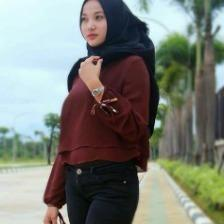Non Syar-i: (63, 0, 157, 126)
